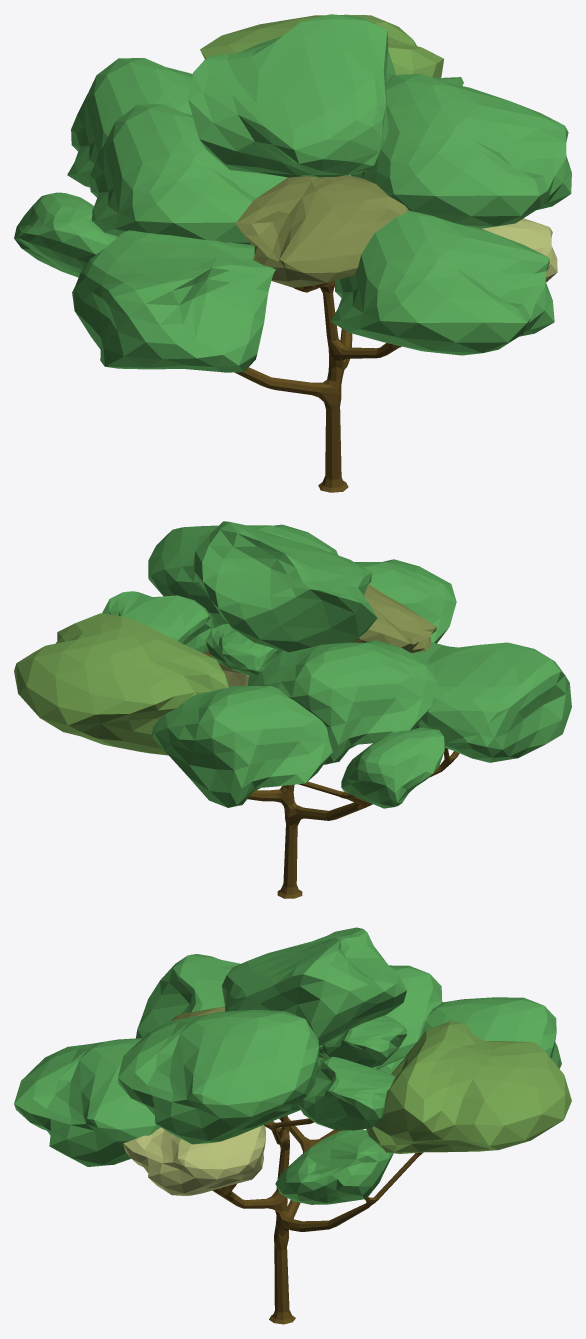
The model's file is Tree_Leaf_Large_varying_colors.gltf.
3 renders of one model, top to bottom at view 1: azimuth 30°, elevation 25°; view 2: azimuth 150°, elevation 25°; view 3: azimuth 270°, elevation 25°, orthographic. The views are drawn at different scales.
Parts seen in each view (by area): view 1: Leafs_Icosphere.001; view 2: Leafs_Icosphere.001; view 3: Leafs_Icosphere.001.
Boxes of the visible parts, box(x1,y1,x2,y2) form: Leafs_Icosphere.001: box(14, 14, 571, 492); Leafs_Icosphere.001: box(14, 521, 571, 898); Leafs_Icosphere.001: box(14, 927, 571, 1324).
Bounding box in the file's own units: 15.05 × 13.23 × 17.55.
Materials: 1 (1 with a texture image).
